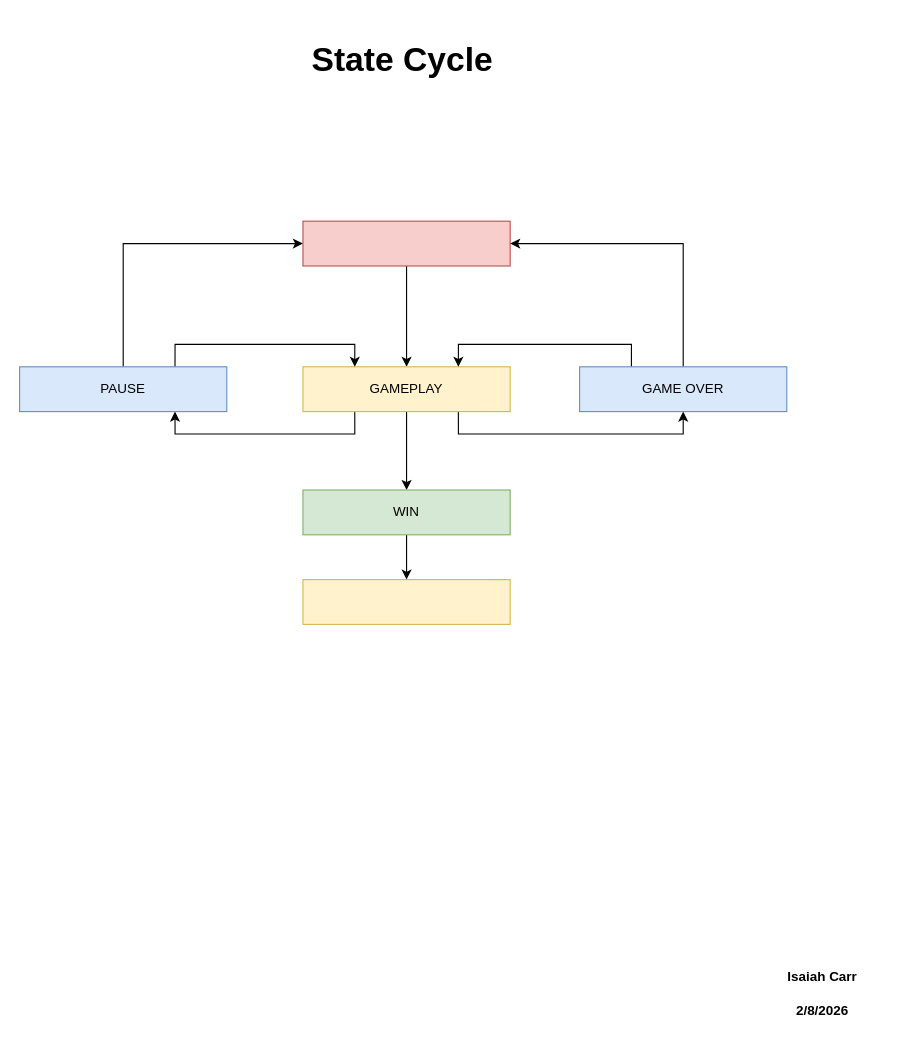
Image size: 898x1046. Some labels were removed from this diagram. The shapes that lost their labels are listed below. From the top down, each one's box as (x1, y1, x2, y2) in pixels, then its label:
(302, 220, 510, 266): MENU
(302, 578, 510, 624): BACK TO GAMEPLAY
